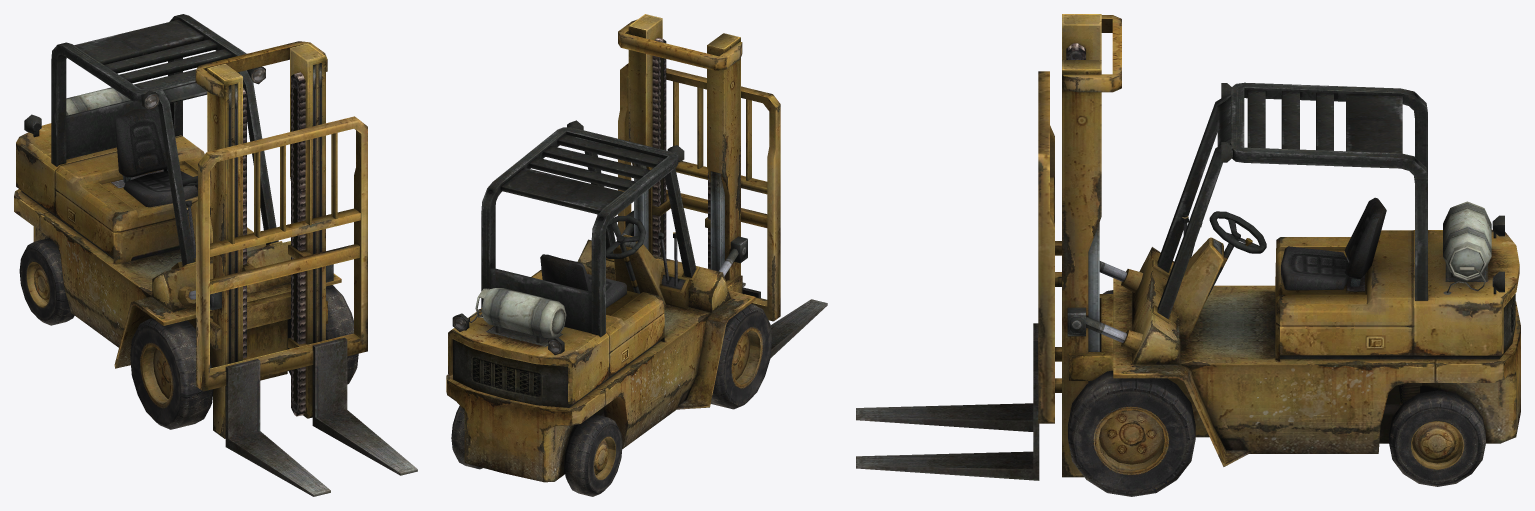
The model's file is Forklift2.fbx.
3 views of the same model, side by side, from view 1: azimuth 30°, elevation 25°; view 2: azimuth 150°, elevation 25°; view 3: azimuth 270°, elevation 25° (orthographic). The views are drawn at different scales.
Parts seen in each view (by area): view 1: Forklift, F2, 1, 2, 4, H; view 2: Forklift, F2, 1, 2, H, D, 3; view 3: Forklift, F2, 4, 3, H, D.
Part boxes in pixels (box(x1,y1,x2,y2)): Forklift: box(14, 14, 341, 438); F2: box(196, 116, 417, 496); 1: box(130, 318, 213, 429); 2: box(19, 238, 74, 325); 4: box(287, 285, 358, 384); H: box(66, 87, 130, 115); Forklift: box(446, 14, 755, 482); F2: box(618, 63, 827, 358); 1: box(710, 304, 771, 409); 2: box(564, 414, 622, 496); H: box(468, 288, 566, 337); D: box(606, 216, 645, 258); 3: box(451, 405, 482, 469); Forklift: box(1062, 14, 1520, 477); F2: box(856, 71, 1061, 480); 4: box(1068, 370, 1195, 496); 3: box(1389, 390, 1485, 486); H: box(1443, 201, 1491, 293); D: box(1209, 211, 1266, 253).
Size of the model in its own units: 3.93 by 7.56 by 11.16.
